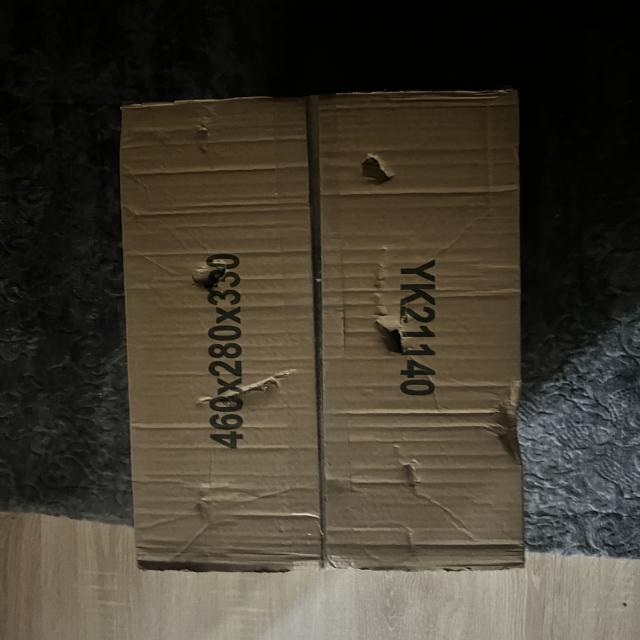damaged: (104, 76, 550, 598), (185, 359, 304, 419), (482, 378, 532, 470), (362, 302, 418, 366), (379, 438, 432, 502), (182, 252, 242, 302), (353, 151, 398, 189), (182, 108, 221, 150)
